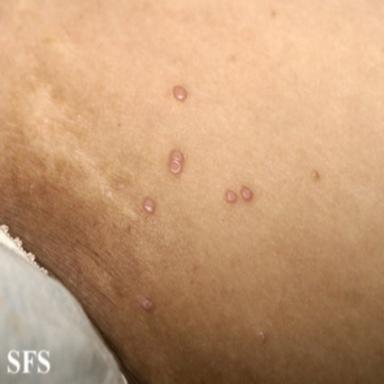Molluscum-Contagiosum: (169, 150, 184, 174), (173, 86, 187, 101), (143, 198, 155, 214), (241, 186, 253, 201), (225, 190, 237, 203), (142, 298, 154, 311), (259, 331, 265, 341)
